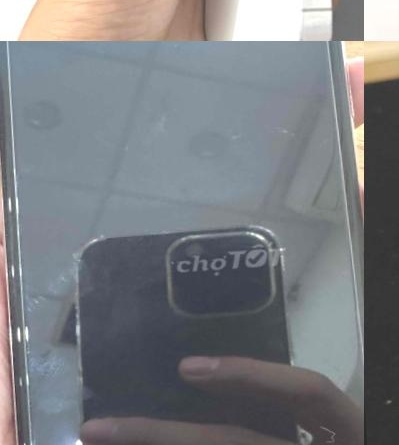scratch: (15, 270, 89, 389), (253, 115, 336, 161), (294, 416, 356, 445), (213, 124, 259, 155)
